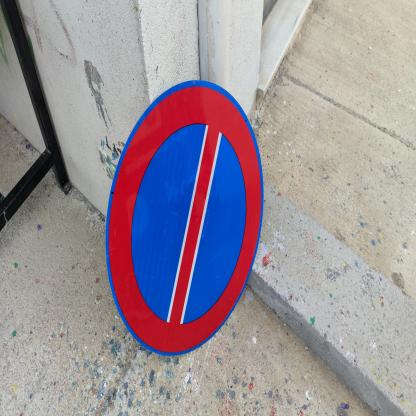No Waiting: (106, 81, 266, 357)
